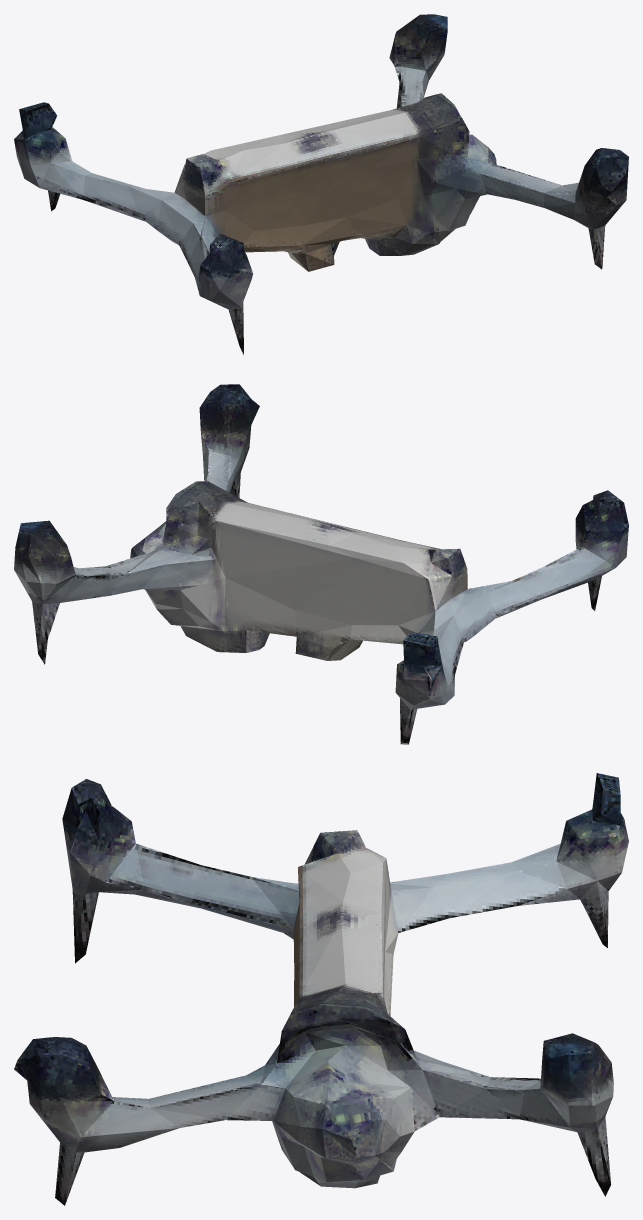
The model's file is drone20.glb.
3 renders of one model, top to bottom at view 1: azimuth 30°, elevation 25°; view 2: azimuth 150°, elevation 25°; view 3: azimuth 270°, elevation 25°, orthographic. The views are drawn at different scales.
Visible parts, largest first — view 1: world; view 2: world; view 3: world.
Part boxes in pixels (bbox=[...]): world: bbox=[14, 14, 628, 354]; world: bbox=[14, 384, 628, 744]; world: bbox=[14, 773, 628, 1205].
Size of the model in its own units: 0.2626 by 0.0886 by 0.2371.
1 material, 1 textured.
